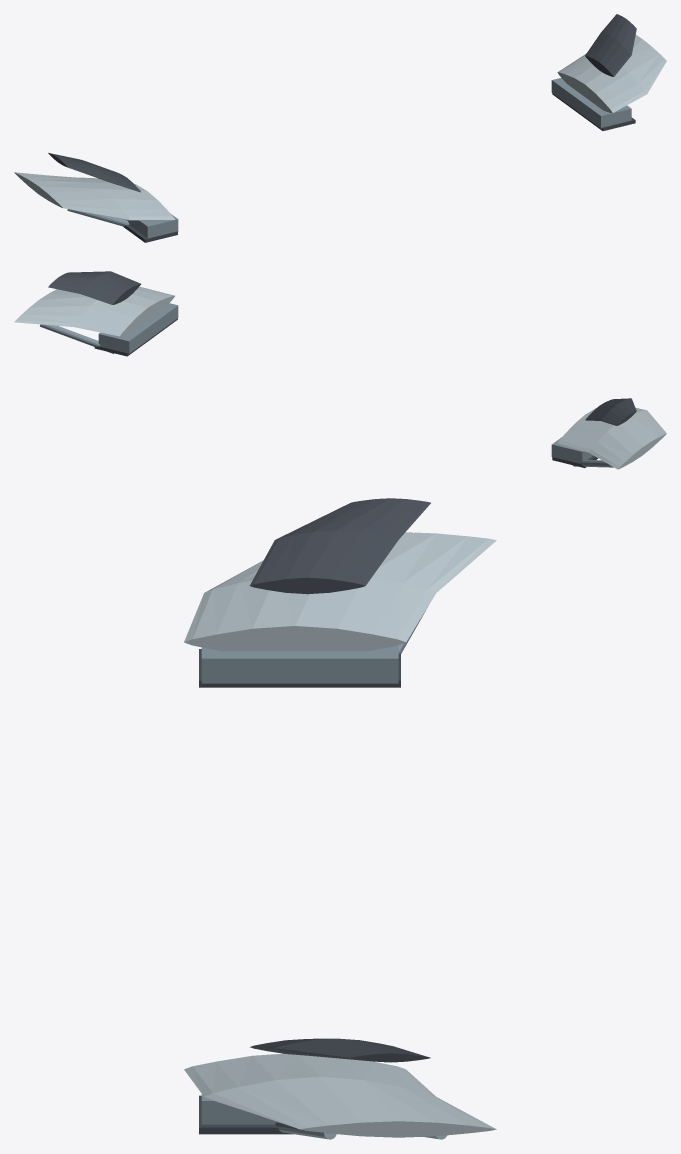
File: quarter_fins_1.glb
The picture shows the model from 3 angles, top to bottom: view 1: azimuth 30°, elevation 25°; view 2: azimuth 150°, elevation 25°; view 3: azimuth 270°, elevation 25°; orthographic projection. The views are drawn at different scales.
Parts seen in each view (by area): view 1: QUARTER_PORT_MAIN_CANARD, QUARTER_STARBOARD_MAIN_CANARD, QUARTER_STARBOARD_UPPER_SPLIT, QUARTER_STARBOARD_ROOT_SHOE, QUARTER_PORT_UPPER_SPLIT, QUARTER_PORT_ROOT_SHOE; view 2: QUARTER_STARBOARD_MAIN_CANARD, QUARTER_PORT_MAIN_CANARD, QUARTER_STARBOARD_UPPER_SPLIT, QUARTER_STARBOARD_ROOT_SHOE, QUARTER_PORT_UPPER_SPLIT, QUARTER_PORT_ROOT_SHOE, QUARTER_STARBOARD_UNDERSTRUT_0; view 3: QUARTER_PORT_MAIN_CANARD, QUARTER_STARBOARD_MAIN_CANARD, QUARTER_PORT_UPPER_SPLIT, QUARTER_PORT_ROOT_SHOE, QUARTER_STARBOARD_UPPER_SPLIT, QUARTER_STARBOARD_ROOT_SHOE, QUARTER_PORT_ROOT_GASKET, QUARTER_STARBOARD_ROOT_GASKET.
Boxes of the visible parts, left/top/right/bottom form: QUARTER_PORT_MAIN_CANARD: left=14, top=172, right=175, bottom=220; QUARTER_STARBOARD_MAIN_CANARD: left=557, top=35, right=666, bottom=112; QUARTER_STARBOARD_UPPER_SPLIT: left=585, top=14, right=636, bottom=76; QUARTER_STARBOARD_ROOT_SHOE: left=551, top=77, right=631, bottom=128; QUARTER_PORT_UPPER_SPLIT: left=48, top=153, right=140, bottom=192; QUARTER_PORT_ROOT_SHOE: left=126, top=213, right=178, bottom=238; QUARTER_STARBOARD_MAIN_CANARD: left=14, top=286, right=174, bottom=336; QUARTER_PORT_MAIN_CANARD: left=557, top=407, right=666, bottom=469; QUARTER_STARBOARD_UPPER_SPLIT: left=48, top=271, right=140, bottom=304; QUARTER_STARBOARD_ROOT_SHOE: left=98, top=303, right=178, bottom=353; QUARTER_PORT_UPPER_SPLIT: left=585, top=398, right=636, bottom=425; QUARTER_PORT_ROOT_SHOE: left=551, top=437, right=593, bottom=462; QUARTER_STARBOARD_UNDERSTRUT_0: left=40, top=324, right=114, bottom=353; QUARTER_PORT_MAIN_CANARD: left=184, top=532, right=496, bottom=651; QUARTER_STARBOARD_MAIN_CANARD: left=184, top=1053, right=496, bottom=1137; QUARTER_PORT_UPPER_SPLIT: left=249, top=498, right=430, bottom=594; QUARTER_PORT_ROOT_SHOE: left=201, top=645, right=398, bottom=683; QUARTER_STARBOARD_UPPER_SPLIT: left=250, top=1038, right=430, bottom=1062; QUARTER_STARBOARD_ROOT_SHOE: left=201, top=1094, right=276, bottom=1124; QUARTER_PORT_ROOT_GASKET: left=199, top=649, right=400, bottom=687; QUARTER_STARBOARD_ROOT_GASKET: left=199, top=1095, right=293, bottom=1134.
Size of the model in its own units: 2.76 by 0.2831 by 0.62.
